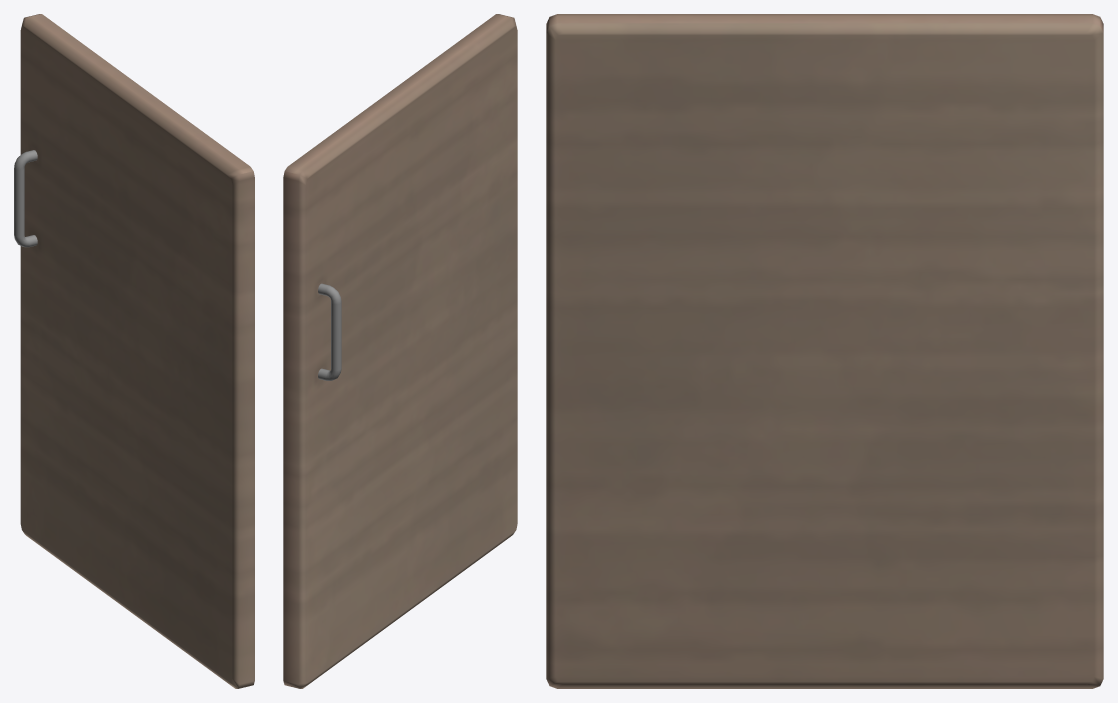
The model's file is SM_KitchenCabinet_C_Door.fbx.
3 views of the same model, side by side, from view 1: azimuth 30°, elevation 25°; view 2: azimuth 150°, elevation 25°; view 3: azimuth 270°, elevation 25° (orthographic). The views are drawn at different scales.
Visible parts, largest first — view 1: SM_KitchenCabinet_C_Door; view 2: SM_KitchenCabinet_C_Door; view 3: SM_KitchenCabinet_C_Door.
Boxes of the visible parts, left/top/right/bottom form: SM_KitchenCabinet_C_Door: left=14, top=14, right=254, bottom=688; SM_KitchenCabinet_C_Door: left=283, top=14, right=517, bottom=688; SM_KitchenCabinet_C_Door: left=546, top=14, right=1103, bottom=688.
Bounding box in the file's own units: 7.25 × 81.62 × 61.95.
